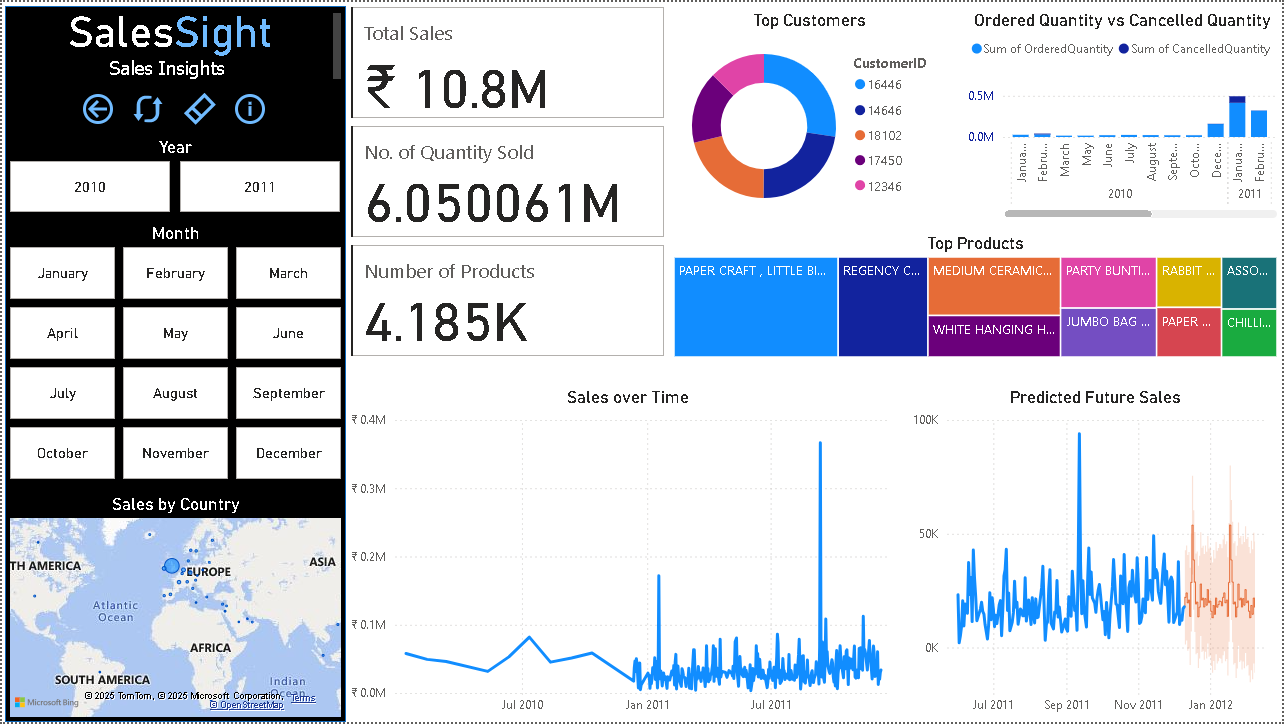

What the dashboard file says about the page in this screenshot:
{"tool":"powerbi","page":{"name":"Sales Insight","canvas":[1280,720],"ordinal":0},"visuals":[{"type":"shape","box":[2.9,3.9,341.4,715.9],"z":0},{"type":"cardVisual","title":"Total Sales","fields":{"Data":["Sum(Sales_data_cleaned.Total)","Sum(Sales_data_cleaned.Quantity)","Count(Sales_data_cleaned.Description)"]},"box":[344,0,323,360],"z":1000},{"type":"lineChart","title":"Sales over Time","fields":{"Y":["Sum(Sales_data_cleaned.Total)"],"Category":["Sales_data_cleaned.InvoiceDate.Variation.Date Hierarchy.Year","Sales_data_cleaned.InvoiceDate.Variation.Date Hierarchy.Quarter","Sales_data_cleaned.InvoiceDate.Variation.Date Hierarchy.Month","Sales_data_cleaned.InvoiceDate.Variation.Date Hierarchy.Day"]},"box":[344,385,563,335],"z":2000},{"type":"map","title":"Sales by Country","fields":{"Category":["Sales_data_cleaned.Country"],"Size":["Sum(Sales_data_cleaned.Total)"]},"box":[2.9,492.2,341.4,227.6],"z":3000},{"type":"treemap","title":"Top Products","fields":{"Group":["Sales_data_cleaned.Description"],"Values":["Sum(Sales_data_cleaned.Total)"]},"box":[667,231,613,129],"z":4000},{"type":"donutChart","title":"Top Customers","fields":{"Category":["Sales_data_cleaned.CustomerID"],"Y":["Sum(Sales_data_cleaned.Total)"]},"box":[667,8,281,213],"z":5000},{"type":"columnChart","title":"Ordered Quantity vs Cancelled Quantity","fields":{"Category":["Sales_data_cleaned.InvoiceDate.Variation.Date Hierarchy.Year","Sales_data_cleaned.InvoiceDate.Variation.Date Hierarchy.Month"],"Y":["Sum(Sales_data_cleaned.OrderedQuantity)","Sum(Sales_data_cleaned.CancelledQuantity)"]},"box":[961,8,319,213],"z":6000},{"type":"lineChart","title":"Predicted Future Sales","fields":{"Y":["Sum(Sales_data_cleaned.Forecast)"],"Category":["Sales_data_cleaned.InvoiceDate.Variation.Date Hierarchy.Year","Sales_data_cleaned.InvoiceDate.Variation.Date Hierarchy.Quarter","Sales_data_cleaned.InvoiceDate.Variation.Date Hierarchy.Month","Sales_data_cleaned.InvoiceDate.Variation.Date Hierarchy.Day"]},"box":[905.5,385.2,374.5,334.6],"z":7000},{"type":"advancedSlicerVisual","fields":{"Values":["Sales_data_cleaned.InvoiceDate.Variation.Date Hierarchy.Month"]},"box":[2.9,220.8,341.4,264.6],"z":8000},{"type":"advancedSlicerVisual","fields":{"Values":["Sales_data_cleaned.InvoiceDate.Variation.Date Hierarchy.Year"]},"box":[2.9,135.2,341.4,79.8],"z":9000},{"type":"textbox","box":[0,2.9,344.3,78.8],"z":10000},{"type":"actionButton","box":[125.6,86.6,44,40],"z":11000},{"type":"actionButton","box":[227.6,86.6,41,40],"z":12000},{"type":"actionButton","box":[177.6,86.6,43,40],"z":13000},{"type":"actionButton","box":[75.6,86.6,40,40],"z":14000}]}

Visuals, with their boxes in screenshot pixels (x1, y1, x2, y2), scaled from the page's 1280x720 canvas onto the 1285x724 screenshot:
shape: Rect(3, 4, 346, 723)
"Total Sales" cardVisual: Rect(345, 0, 670, 362)
"Sales over Time" lineChart: Rect(345, 387, 911, 723)
"Sales by Country" map: Rect(3, 495, 346, 723)
"Top Products" treemap: Rect(670, 232, 1284, 362)
"Top Customers" donutChart: Rect(670, 8, 952, 222)
"Ordered Quantity vs Cancelled Quantity" columnChart: Rect(965, 8, 1284, 222)
"Predicted Future Sales" lineChart: Rect(909, 387, 1284, 723)
advancedSlicerVisual - Sales_data_cleaned.InvoiceDate.Variation.Date Hierarchy.Month: Rect(3, 222, 346, 488)
advancedSlicerVisual - Sales_data_cleaned.InvoiceDate.Variation.Date Hierarchy.Year: Rect(3, 136, 346, 216)
textbox: Rect(0, 3, 346, 82)
actionButton: Rect(126, 87, 170, 127)
actionButton: Rect(228, 87, 270, 127)
actionButton: Rect(178, 87, 221, 127)
actionButton: Rect(76, 87, 116, 127)
